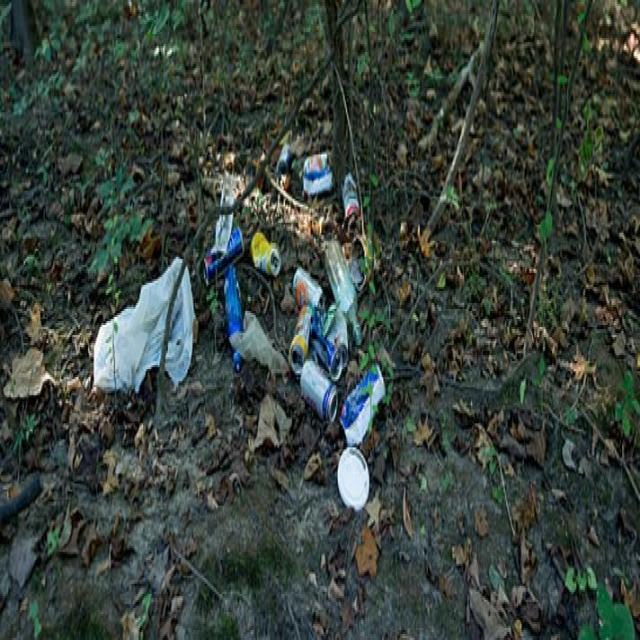metal: (301, 351, 340, 430), (291, 254, 326, 325), (249, 221, 287, 281)
paper: (334, 436, 376, 523)
plastic: (89, 250, 213, 401), (223, 261, 250, 384)
